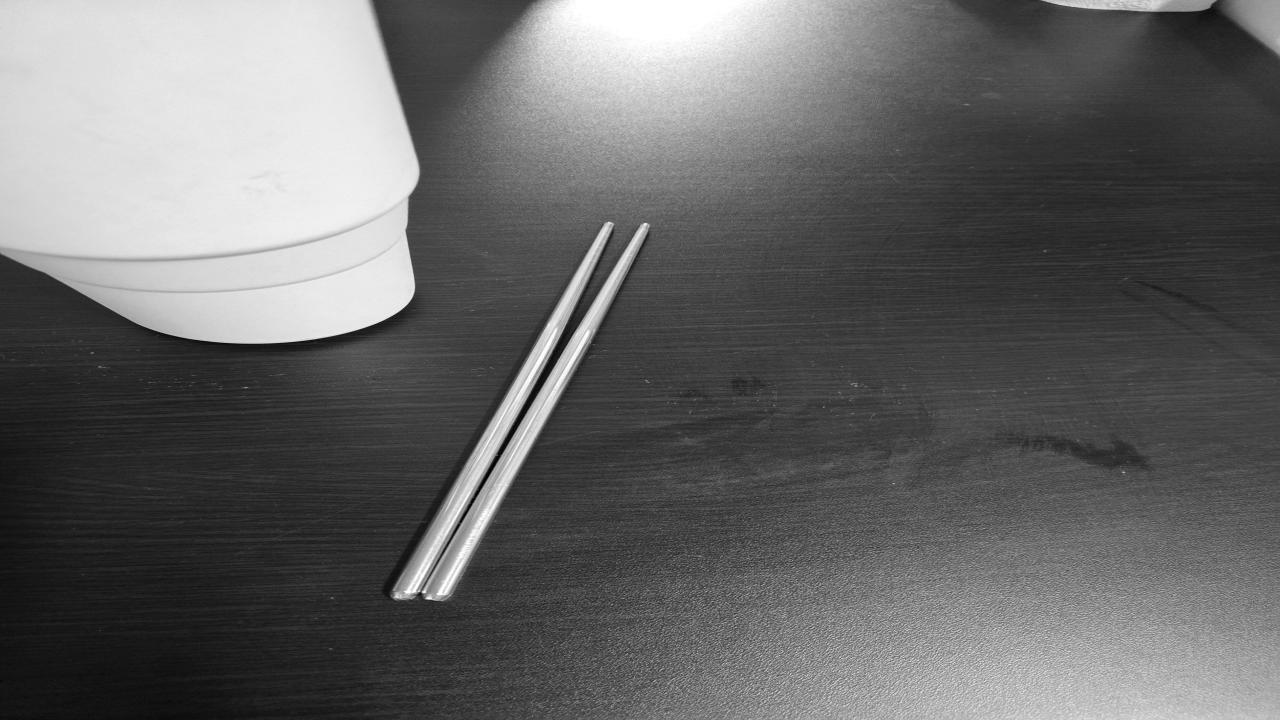chopstick: (388, 225, 646, 600)
